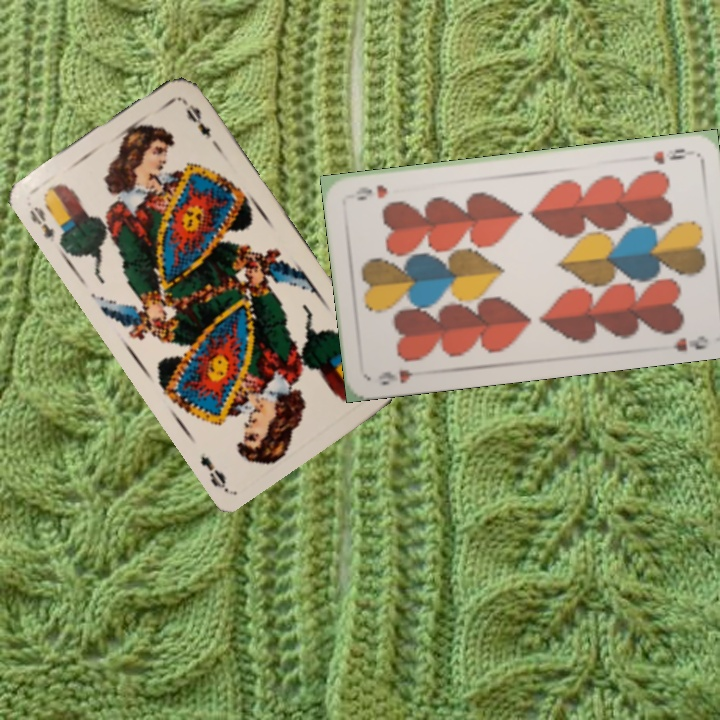EO: (25, 202, 58, 245)
H9: (374, 365, 428, 388), (649, 144, 694, 167)
